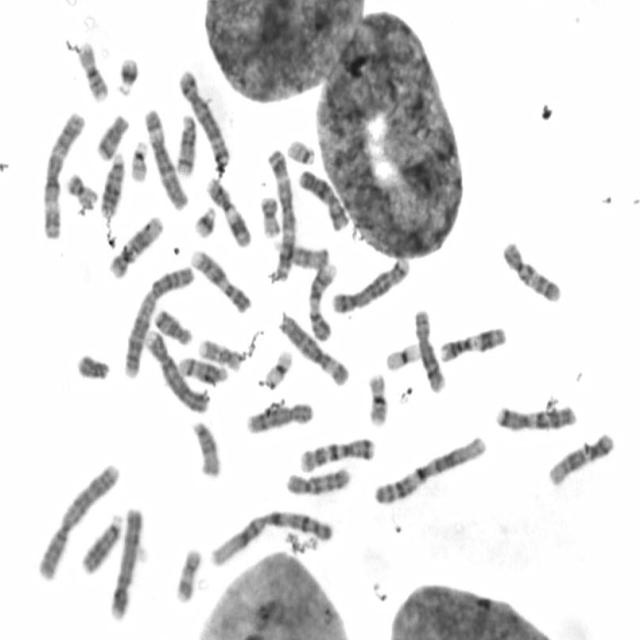A1: (370, 431, 487, 507), (207, 505, 334, 570)
A2: (34, 459, 121, 583), (121, 261, 195, 379)
A3: (37, 106, 86, 242), (264, 145, 297, 284)
B4: (142, 325, 211, 415), (106, 503, 144, 622)
B5: (175, 66, 231, 172), (329, 255, 412, 315)
C10: (498, 235, 563, 305), (282, 464, 352, 498)
C11: (203, 175, 253, 250), (436, 322, 507, 363)
C12: (544, 428, 616, 488), (106, 211, 164, 280)
C6: (276, 309, 350, 388), (141, 105, 190, 212)
C7: (296, 433, 377, 474), (492, 400, 577, 432)
C8: (412, 306, 447, 394), (242, 398, 315, 436)
C9: (189, 246, 252, 315), (305, 260, 339, 343)
D13: (78, 510, 124, 576), (97, 151, 126, 219)
D14: (176, 354, 230, 386), (172, 112, 198, 177)
D15: (189, 417, 224, 480), (272, 237, 330, 270)
E16: (75, 38, 109, 103), (364, 370, 391, 428)
E17: (172, 545, 202, 606), (196, 336, 244, 372)
E18: (92, 110, 130, 162), (152, 306, 193, 347)
F19: (261, 348, 293, 390), (382, 339, 420, 372)
F20: (64, 169, 98, 209), (258, 193, 280, 240)
G21: (114, 53, 140, 98), (192, 203, 218, 240)
G22: (127, 137, 150, 183), (284, 136, 317, 166)
X: (296, 165, 351, 232)
Y: (75, 351, 111, 382)
